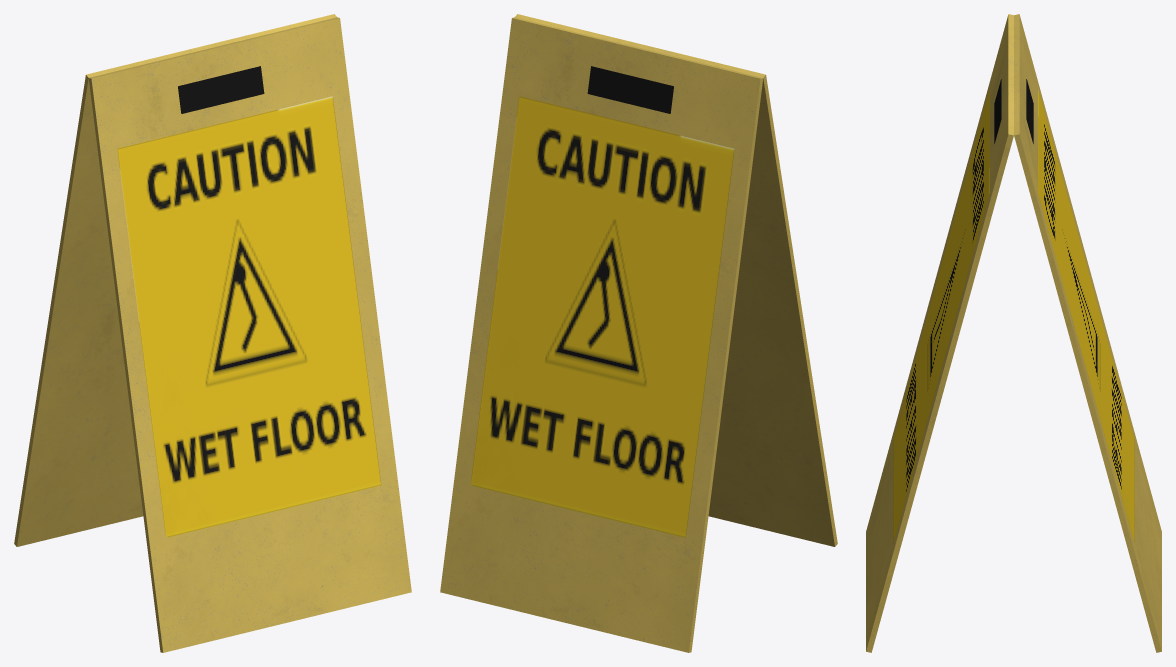
The model's file is SM_QUE_WetFloorSign.fbx.
3 renders of one model, left to right at view 1: azimuth 30°, elevation 25°; view 2: azimuth 150°, elevation 25°; view 3: azimuth 270°, elevation 25°, orthographic.
Visible parts, largest first — view 1: SM_QUE_WetFloorSign; view 2: SM_QUE_WetFloorSign; view 3: SM_QUE_WetFloorSign.
Boxes of the visible parts, x1=… form: SM_QUE_WetFloorSign: x1=14, y1=14, x2=411, y2=652; SM_QUE_WetFloorSign: x1=440, y1=14, x2=837, y2=652; SM_QUE_WetFloorSign: x1=866, y1=14, x2=1161, y2=652.
Size of the model in its own units: 0.3 by 0.603 by 0.3116.
